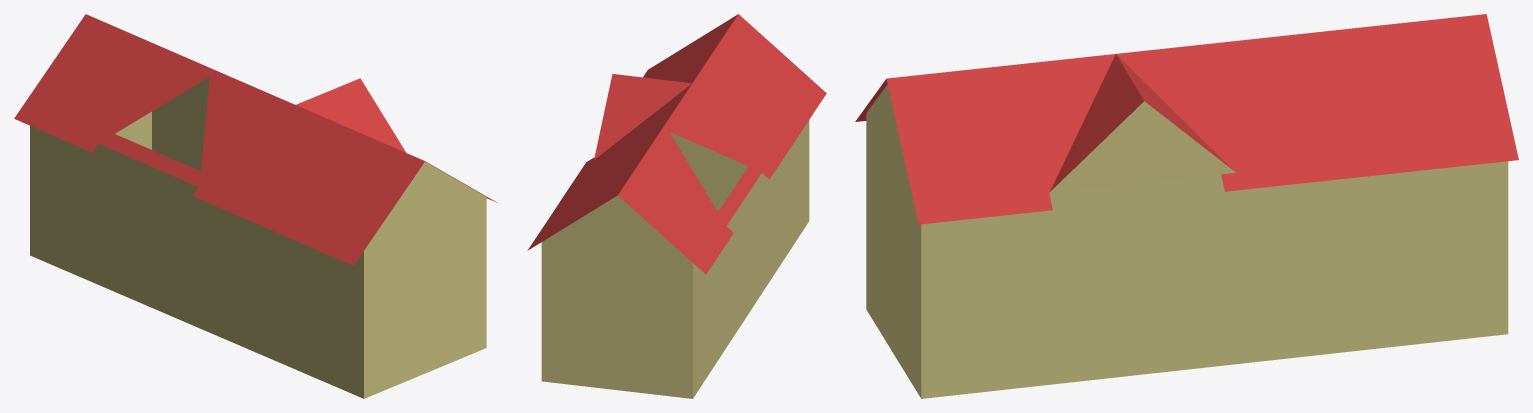
The picture shows the model from 3 angles, left to right: view 1: azimuth 30°, elevation 25°; view 2: azimuth 150°, elevation 25°; view 3: azimuth 270°, elevation 25°; orthographic projection. The views are drawn at different scales.
Bounding box in the file's own units: 19 × 31.29 × 14.24.
